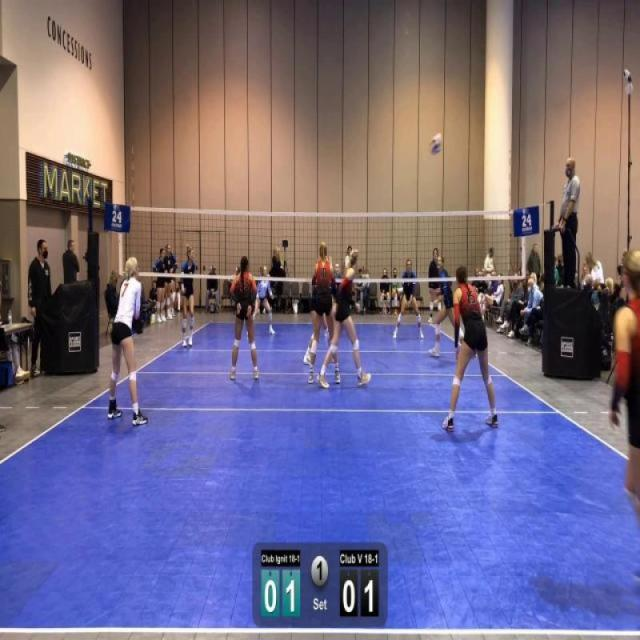volleyball: (428, 131, 444, 158)
